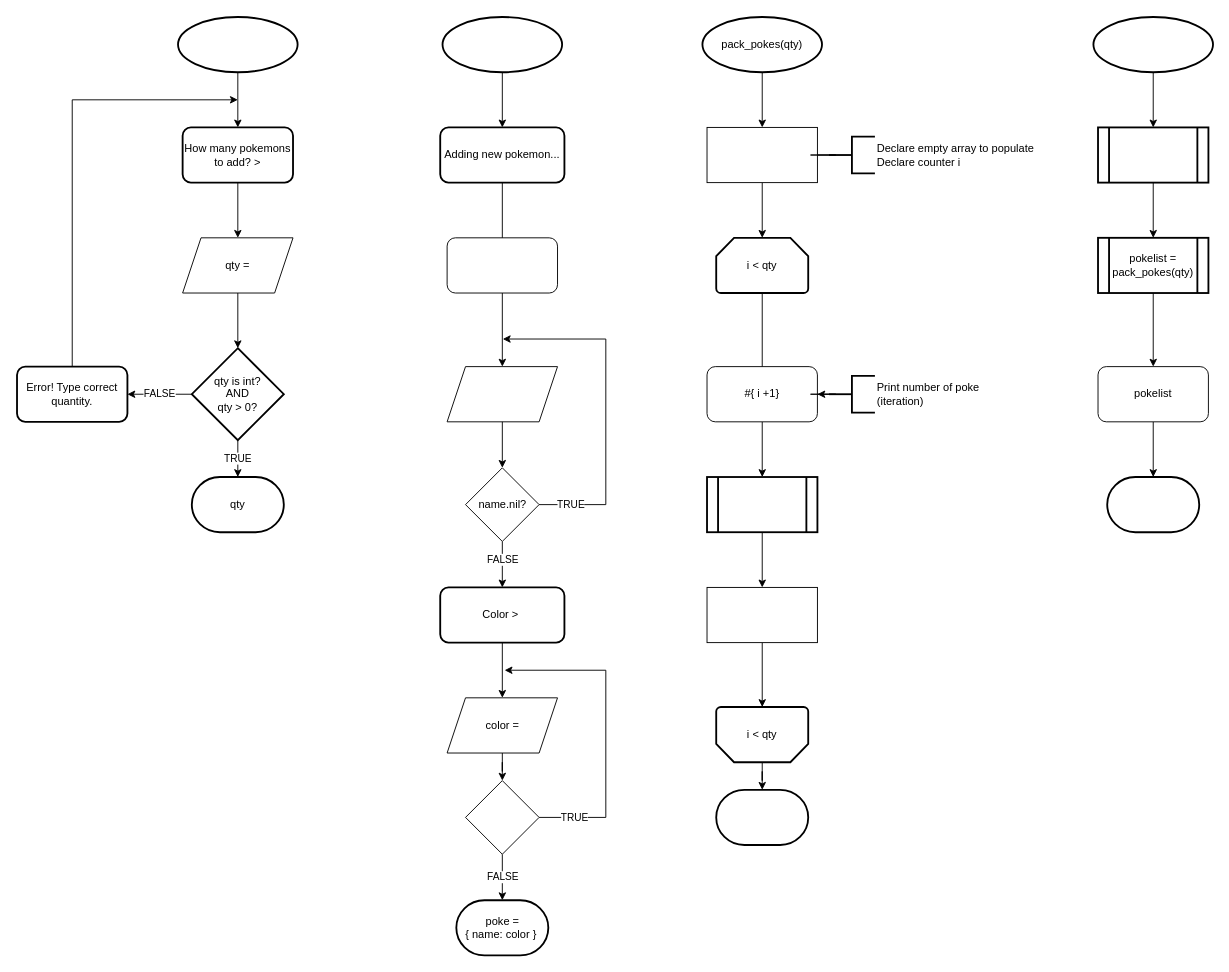
Some shapes in this 1229 by 972 pixel diagram are drawn without their labels. The centre of each missing label's shape, as x and y in pixels:
"add_poke()" belongs at (502,44).
"color.nil?" belongs at (502,817).
"get_poke_qty()" belongs at (237,44).
"name =" belongs at (502,394).
"Name >" belongs at (502,265).
"poke = add_poke()" belongs at (762,504).
"pokelist .append(poke)" belongs at (761,614).
"pokelist = [] i = 0" belongs at (761,154).
"qty = get_poke_qty()" belongs at (1153,154).
